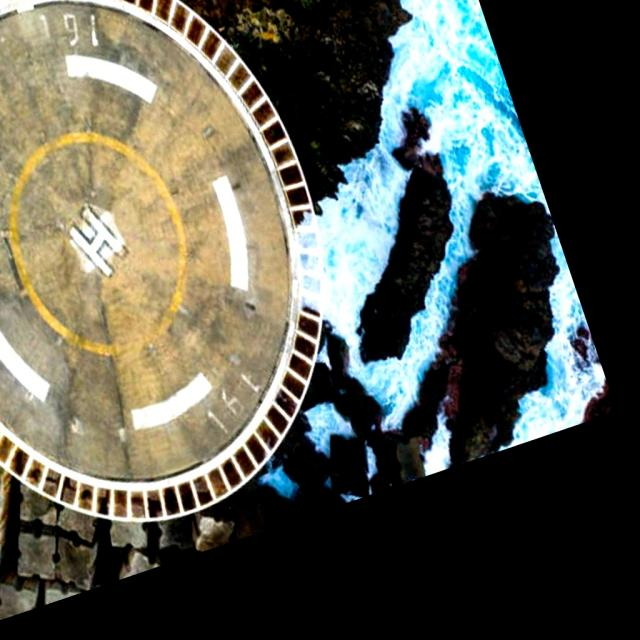helipad: (4, 127, 192, 359)
